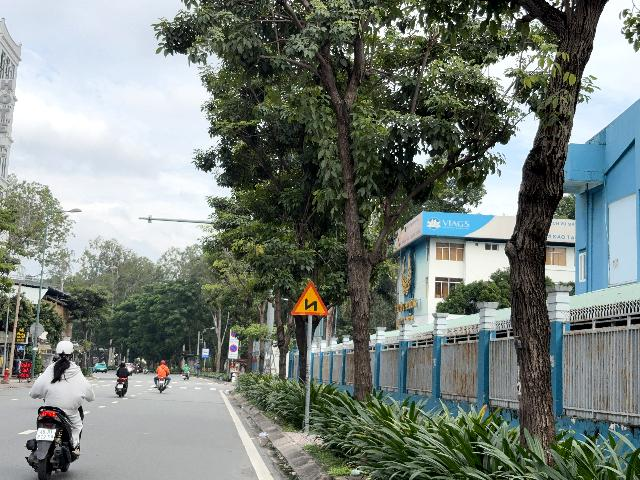nhieu-cho-ngoat-nguy-hiem-lien-tiep: (291, 282, 329, 315)
